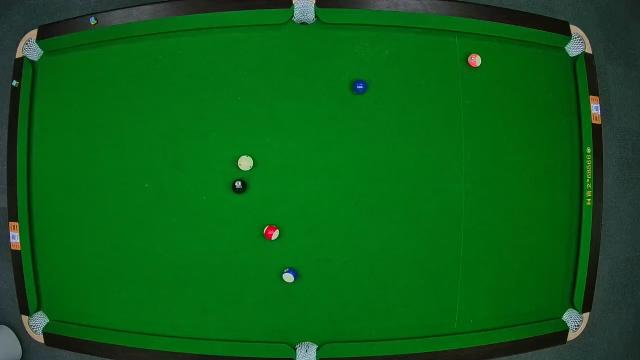bag1: (22, 39, 42, 61)
bag2: (292, 0, 318, 24)
bag3: (564, 33, 588, 55)
bag4: (27, 310, 48, 334)
bag5: (293, 340, 319, 360)
bag6: (562, 308, 582, 330)
ball0: (238, 154, 254, 170)
ball10: (282, 266, 298, 284)
ball11: (264, 222, 280, 242)
ball12: (468, 52, 482, 70)
ball2: (353, 80, 369, 94)
ball8: (232, 180, 246, 195)
